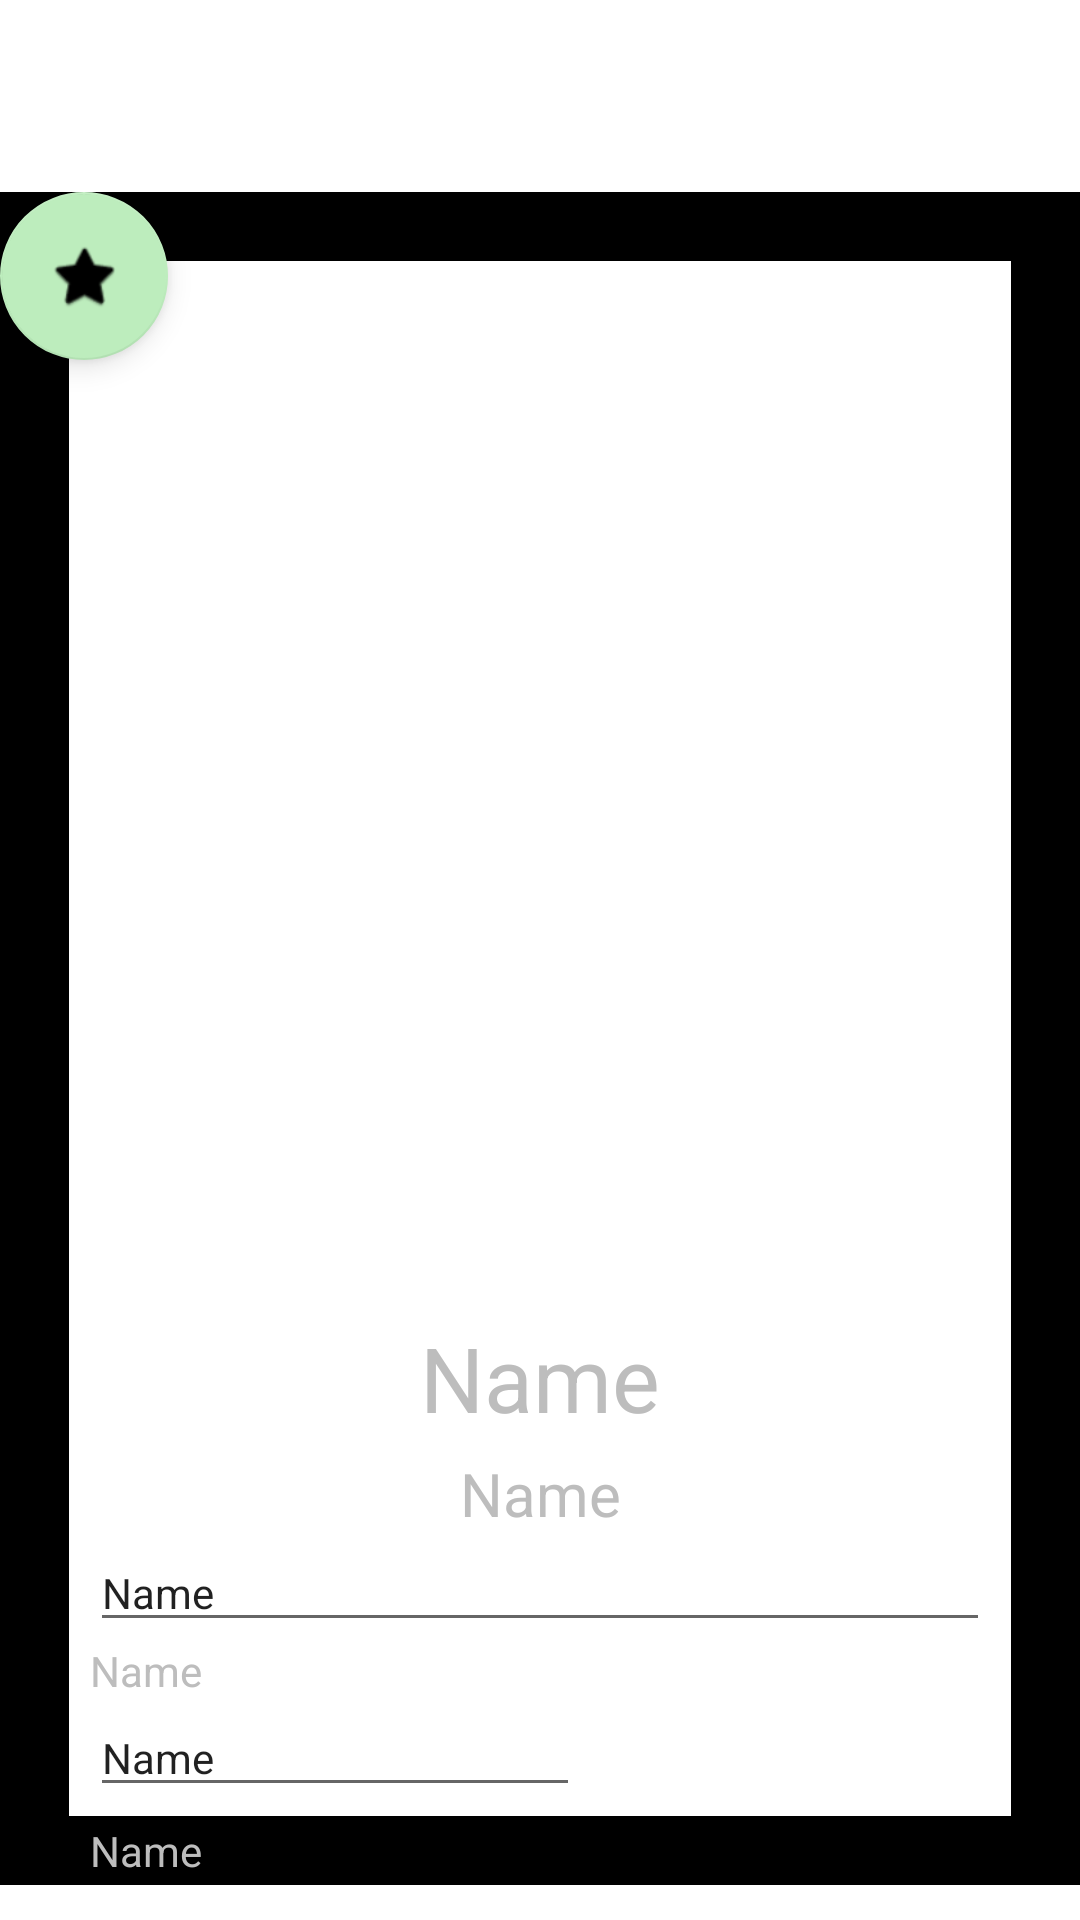

Point at icon controls on the screen. Image size 1080px×1920px, points as (x,y).
star on: (84,276)
